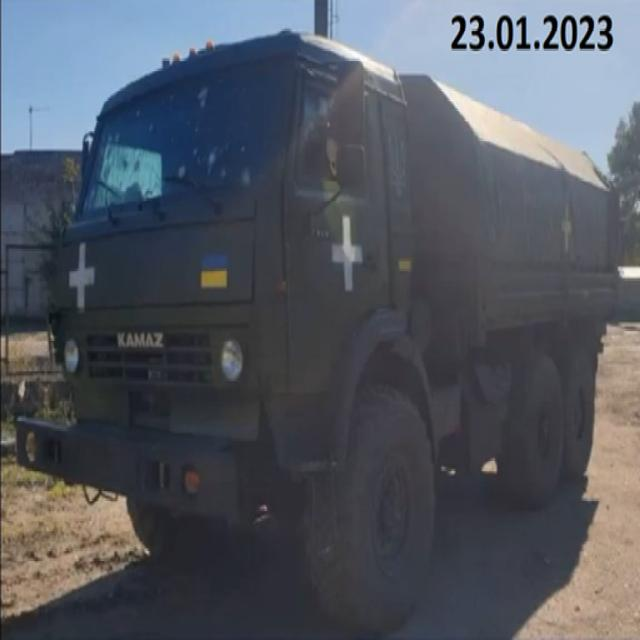TRUCK: (18, 27, 620, 636)
